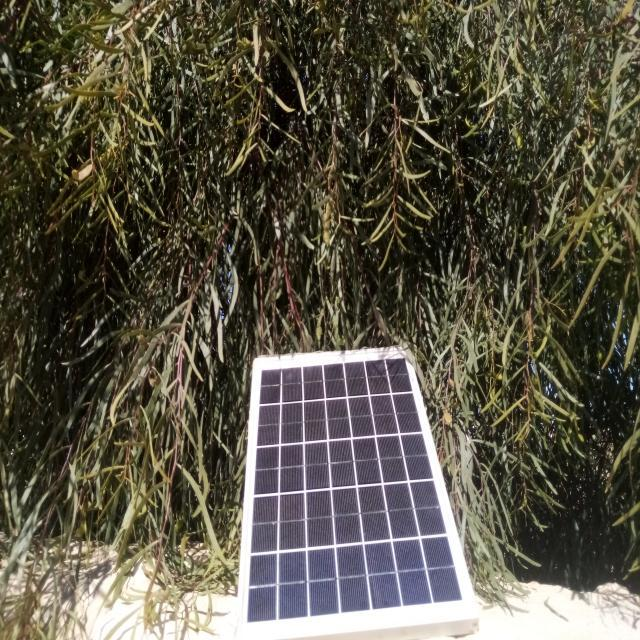no faulty: (243, 347, 474, 630)
